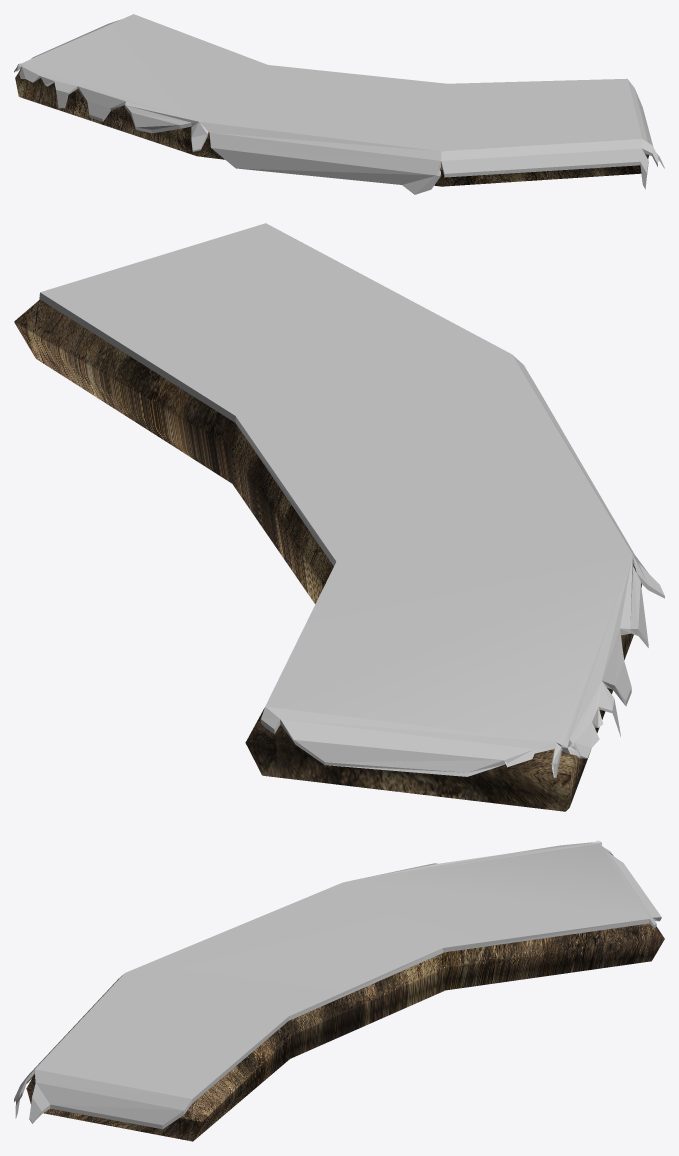
Rendered from Plat03.FBX.
3 renders of one model, top to bottom at view 1: azimuth 30°, elevation 25°; view 2: azimuth 150°, elevation 25°; view 3: azimuth 270°, elevation 25°, orthographic. The views are drawn at different scales.
Visible parts, largest first — view 1: Plat004; view 2: Plat004; view 3: Plat004.
Part boxes in pixels (x1,y1,x2,y2): Plat004: (14, 14, 664, 194); Plat004: (14, 223, 664, 811); Plat004: (14, 840, 664, 1141).
Size of what is drawn, in the model's own units: 45.09 by 4.24 by 46.43.
